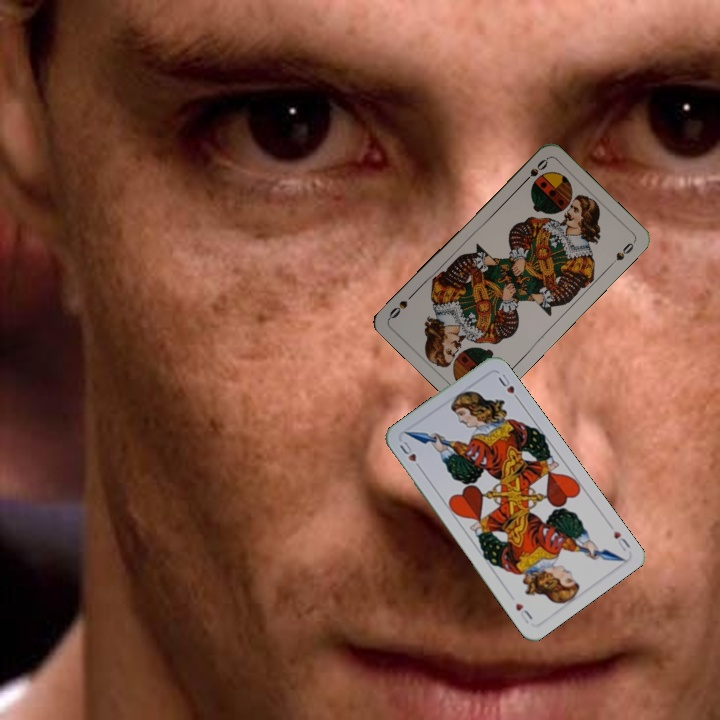HU: (395, 437, 425, 473), (609, 527, 633, 554)
SO: (518, 155, 551, 187)
